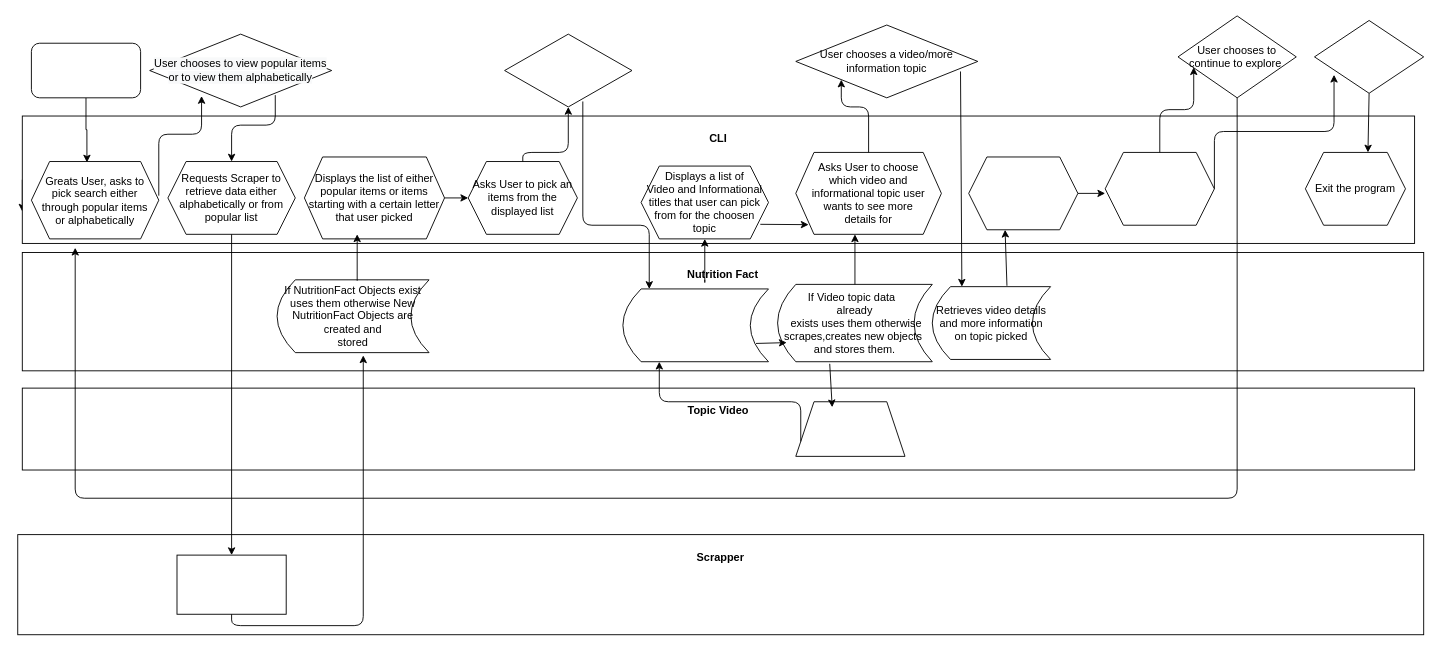
Some shapes in this 1440 by 651 pixel diagram are drawn without their labels. Here are the shapes that lost their labels. From the top down, the box of each, then its label:
(30, 42, 141, 98): User Starst the App
(504, 33, 632, 107): User Chooses a topic by typing it in
(1314, 20, 1424, 93): User chooses to exit
(968, 156, 1078, 230): Display Link to YoutTibe Video and more information on the selected topic
(1104, 152, 1214, 225): Asks User if the want to exist the program or continue exploring the topics
(622, 288, 768, 362): Retrieves titles for video and more detailed information on the item selected
(795, 401, 905, 456): Definess/Creates Video topic objects
(176, 554, 286, 614): Retrieves either data from popular list or alphabetically
